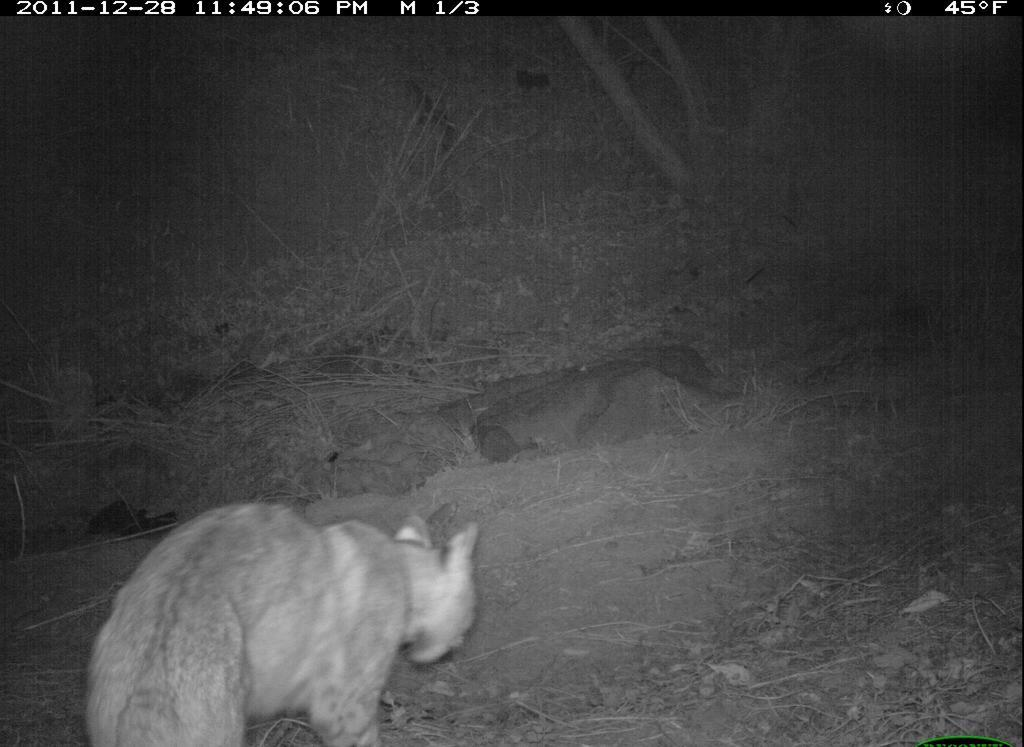bobcat: (76, 493, 496, 747)
